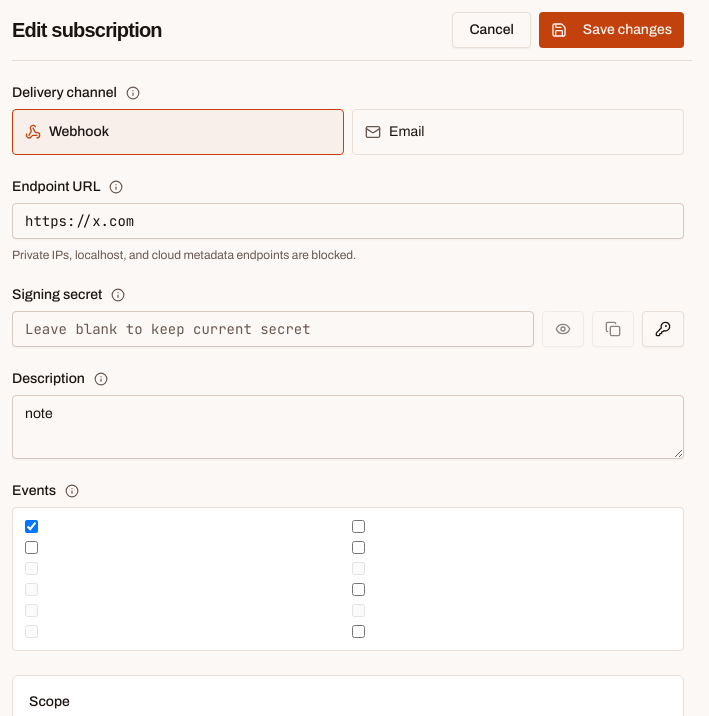
Test: WebhookForm › edit mode: says the subscription changed, stays on the page and keeps the edits, when refused as stale (t-899)
Replace the text in the text box showing "note" with "edited note" at (348, 427), box [12,395,684,459]
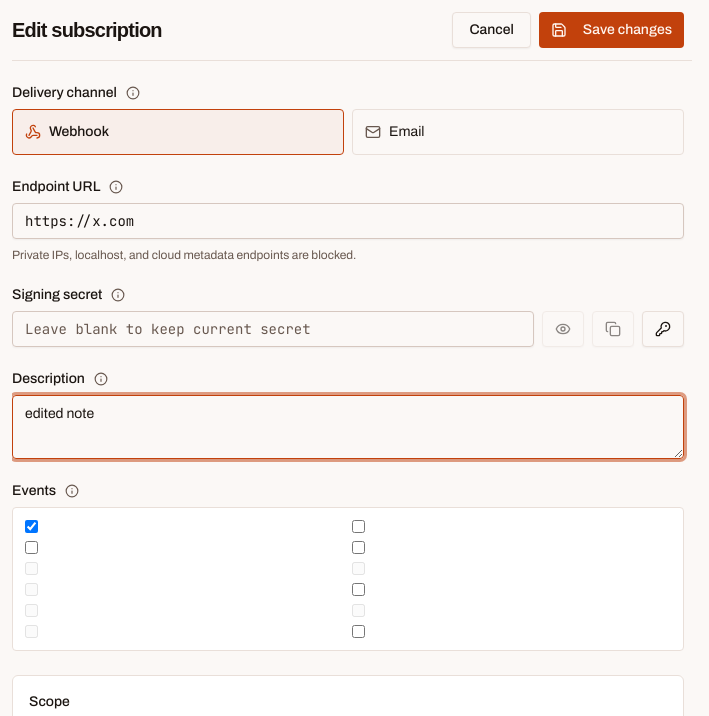
Click the button "Save changes" at (611, 30), box [539,12,684,48]
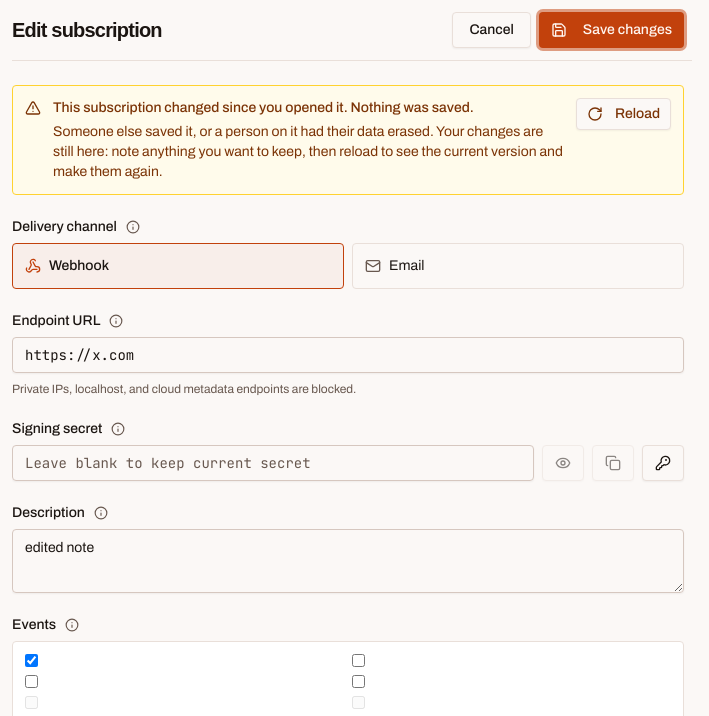
Expected: the message shows "This subscription changed since you opened it", [12,85,684,195]
